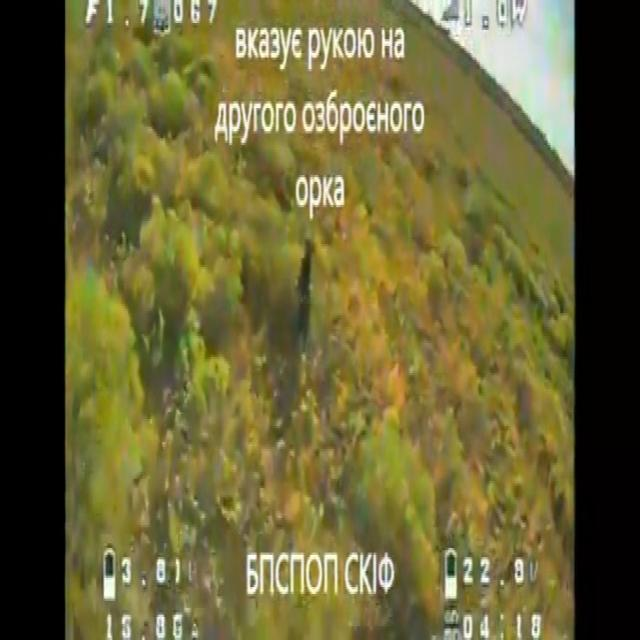MIL_Pax: (298, 239, 311, 347)
